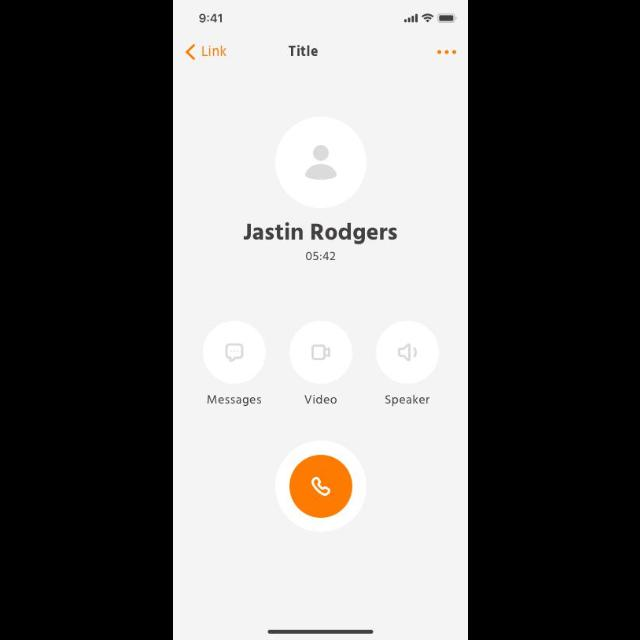icon: (274, 114, 366, 210), (374, 320, 438, 384), (288, 454, 352, 518), (200, 322, 266, 384), (288, 322, 352, 384), (186, 44, 197, 62), (436, 50, 456, 56)
text: (241, 222, 397, 244), (206, 394, 260, 408), (383, 394, 429, 406), (288, 43, 318, 57), (200, 44, 226, 58), (305, 250, 335, 262), (302, 394, 336, 404)
toolbar: (173, 34, 467, 66)
uppertaskbar: (198, 13, 458, 24)
